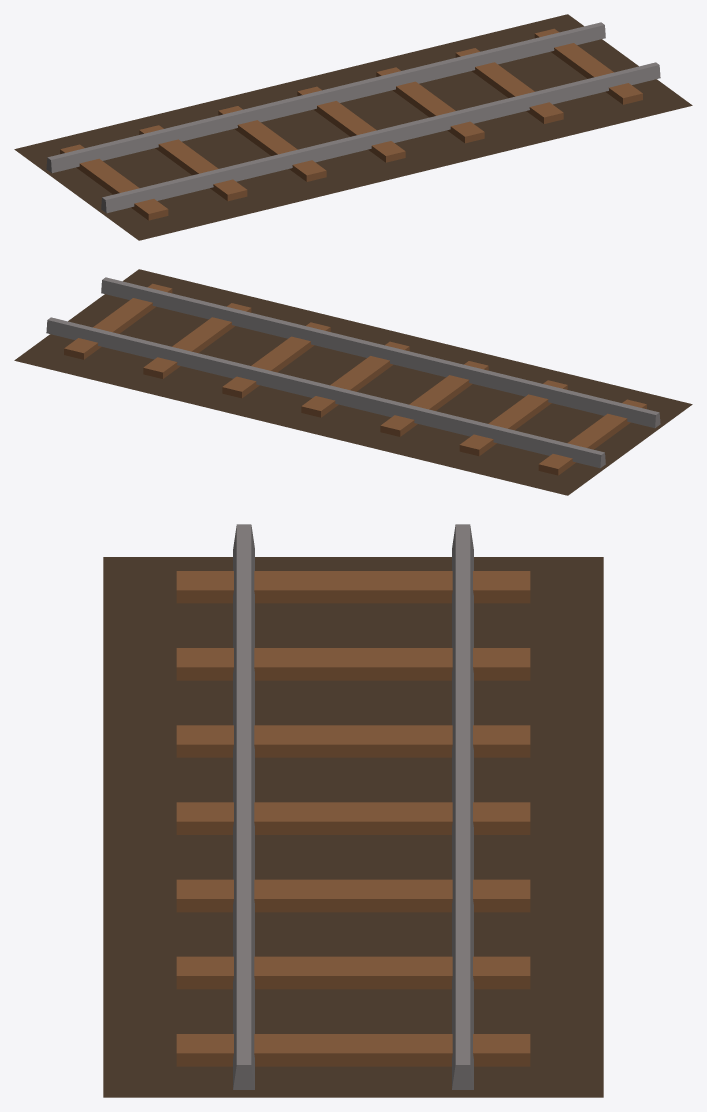
File: Rail.dae
The picture shows the model from 3 angles, top to bottom: view 1: azimuth 30°, elevation 25°; view 2: azimuth 150°, elevation 25°; view 3: azimuth 270°, elevation 25°; orthographic projection. The views are drawn at different scales.
Visible parts, largest first — view 1: tile-rail-mainroad-crossing; view 2: tile-rail-mainroad-crossing; view 3: tile-rail-mainroad-crossing.
Boxes of the visible parts, x1,y1,x2,y2 form: tile-rail-mainroad-crossing: (14,14,692,240); tile-rail-mainroad-crossing: (14,269,692,495); tile-rail-mainroad-crossing: (103,524,603,1097).
Size of the model in its own units: 8.75 by 3.42 by 0.2458.
